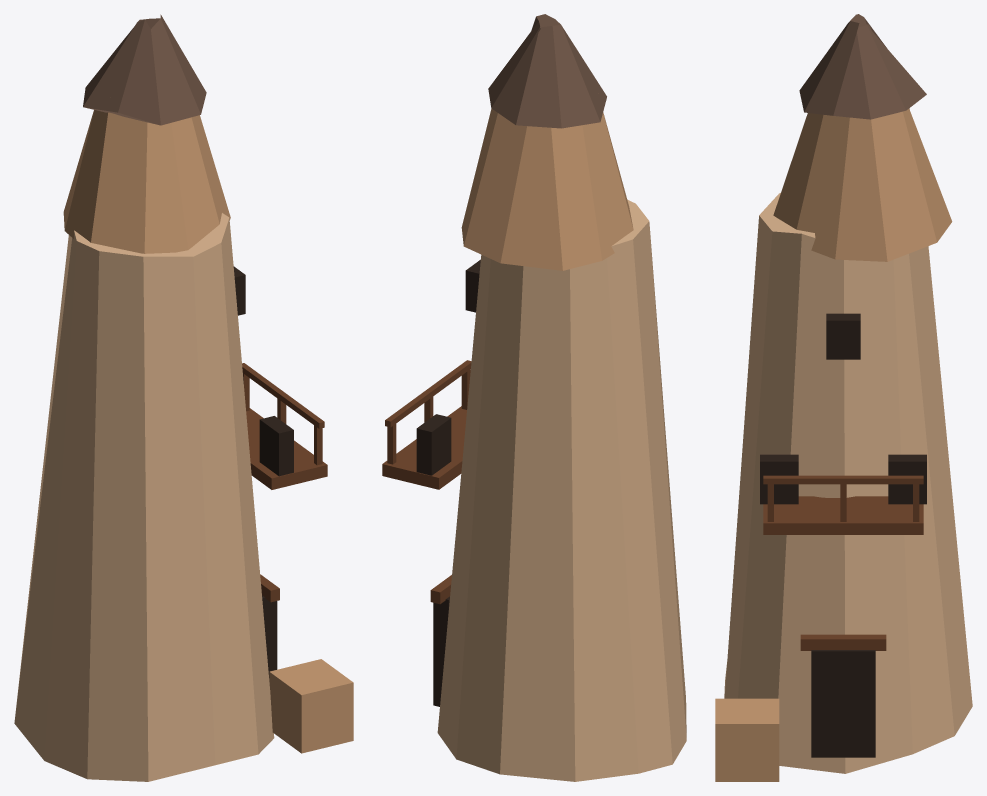
Rendered from chimney_c.glb.
The picture shows the model from 3 angles, left to right: view 1: azimuth 30°, elevation 25°; view 2: azimuth 150°, elevation 25°; view 3: azimuth 270°, elevation 25°; orthographic projection. The views are drawn at different scales.
Parts seen in each view (by area): view 1: chimney_c; view 2: chimney_c; view 3: chimney_c.
Boxes of the visible parts, left/top/right/bottom form: chimney_c: left=14, top=14, right=353, bottom=781; chimney_c: left=382, top=14, right=686, bottom=781; chimney_c: left=715, top=14, right=972, bottom=781.
Bounding box in the file's own units: 1.32 × 3.66 × 1.2.
